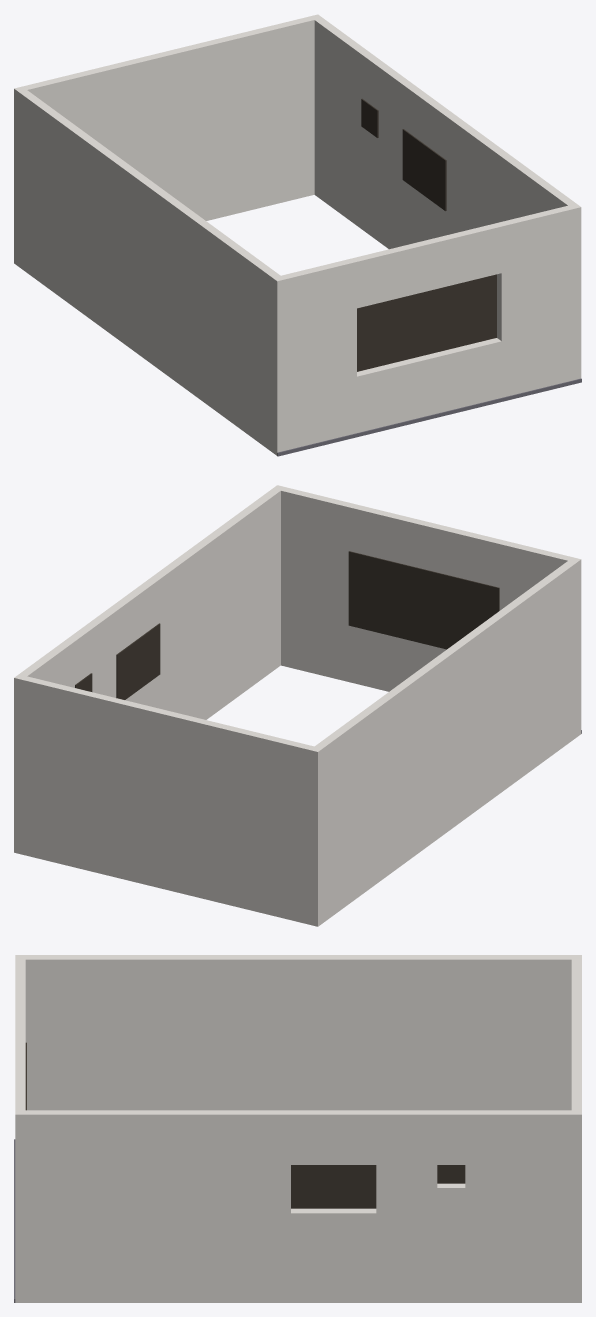
The model's file is SM_Floor_NarrowUpperWindowEndR_White_546_01.gltf.
3 views of the same model, one above another, from view 1: azimuth 30°, elevation 25°; view 2: azimuth 150°, elevation 25°; view 3: azimuth 270°, elevation 25° (orthographic). The views are drawn at different scales.
Visible parts, largest first — view 1: SM_Floor_NarrowUpperWindowEndR_White_546_01; view 2: SM_Floor_NarrowUpperWindowEndR_White_546_01; view 3: SM_Floor_NarrowUpperWindowEndR_White_546_01.
Part boxes in pixels (x1,y1,x2,y2): SM_Floor_NarrowUpperWindowEndR_White_546_01: [14, 14, 581, 456]; SM_Floor_NarrowUpperWindowEndR_White_546_01: [14, 485, 581, 926]; SM_Floor_NarrowUpperWindowEndR_White_546_01: [14, 955, 581, 1302].
Size of the model in its own units: 5.46 by 3 by 8.21.
1 material, 1 textured.
